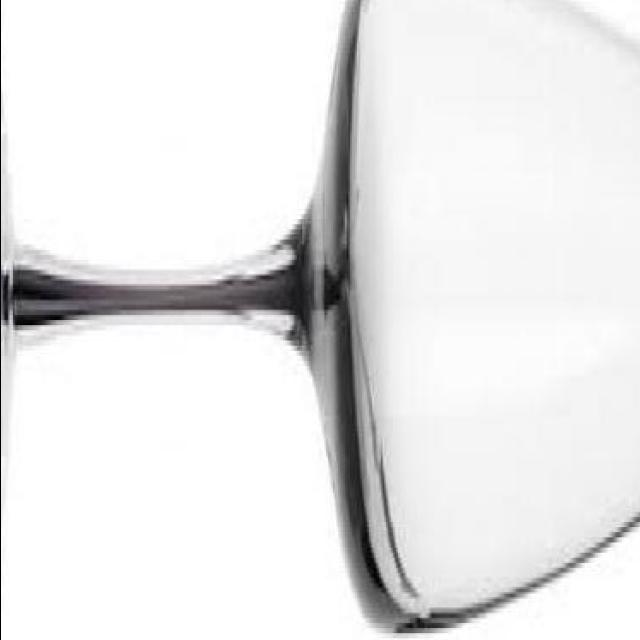kaca: (0, 1, 640, 624)
